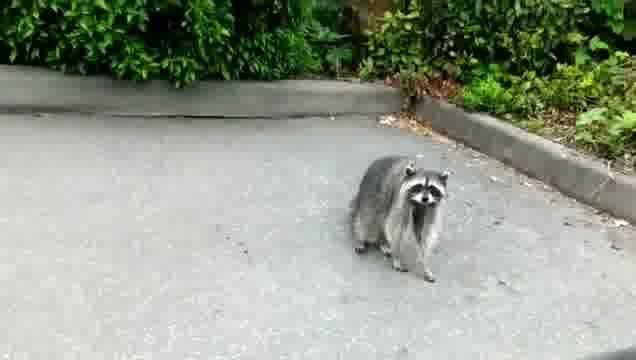raccoon: (347, 157, 452, 287)
